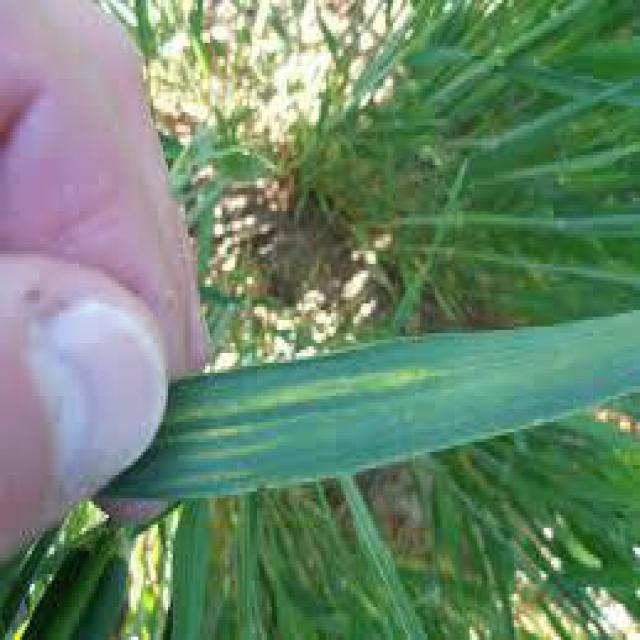wheat-yellowrust: (91, 310, 640, 528)
